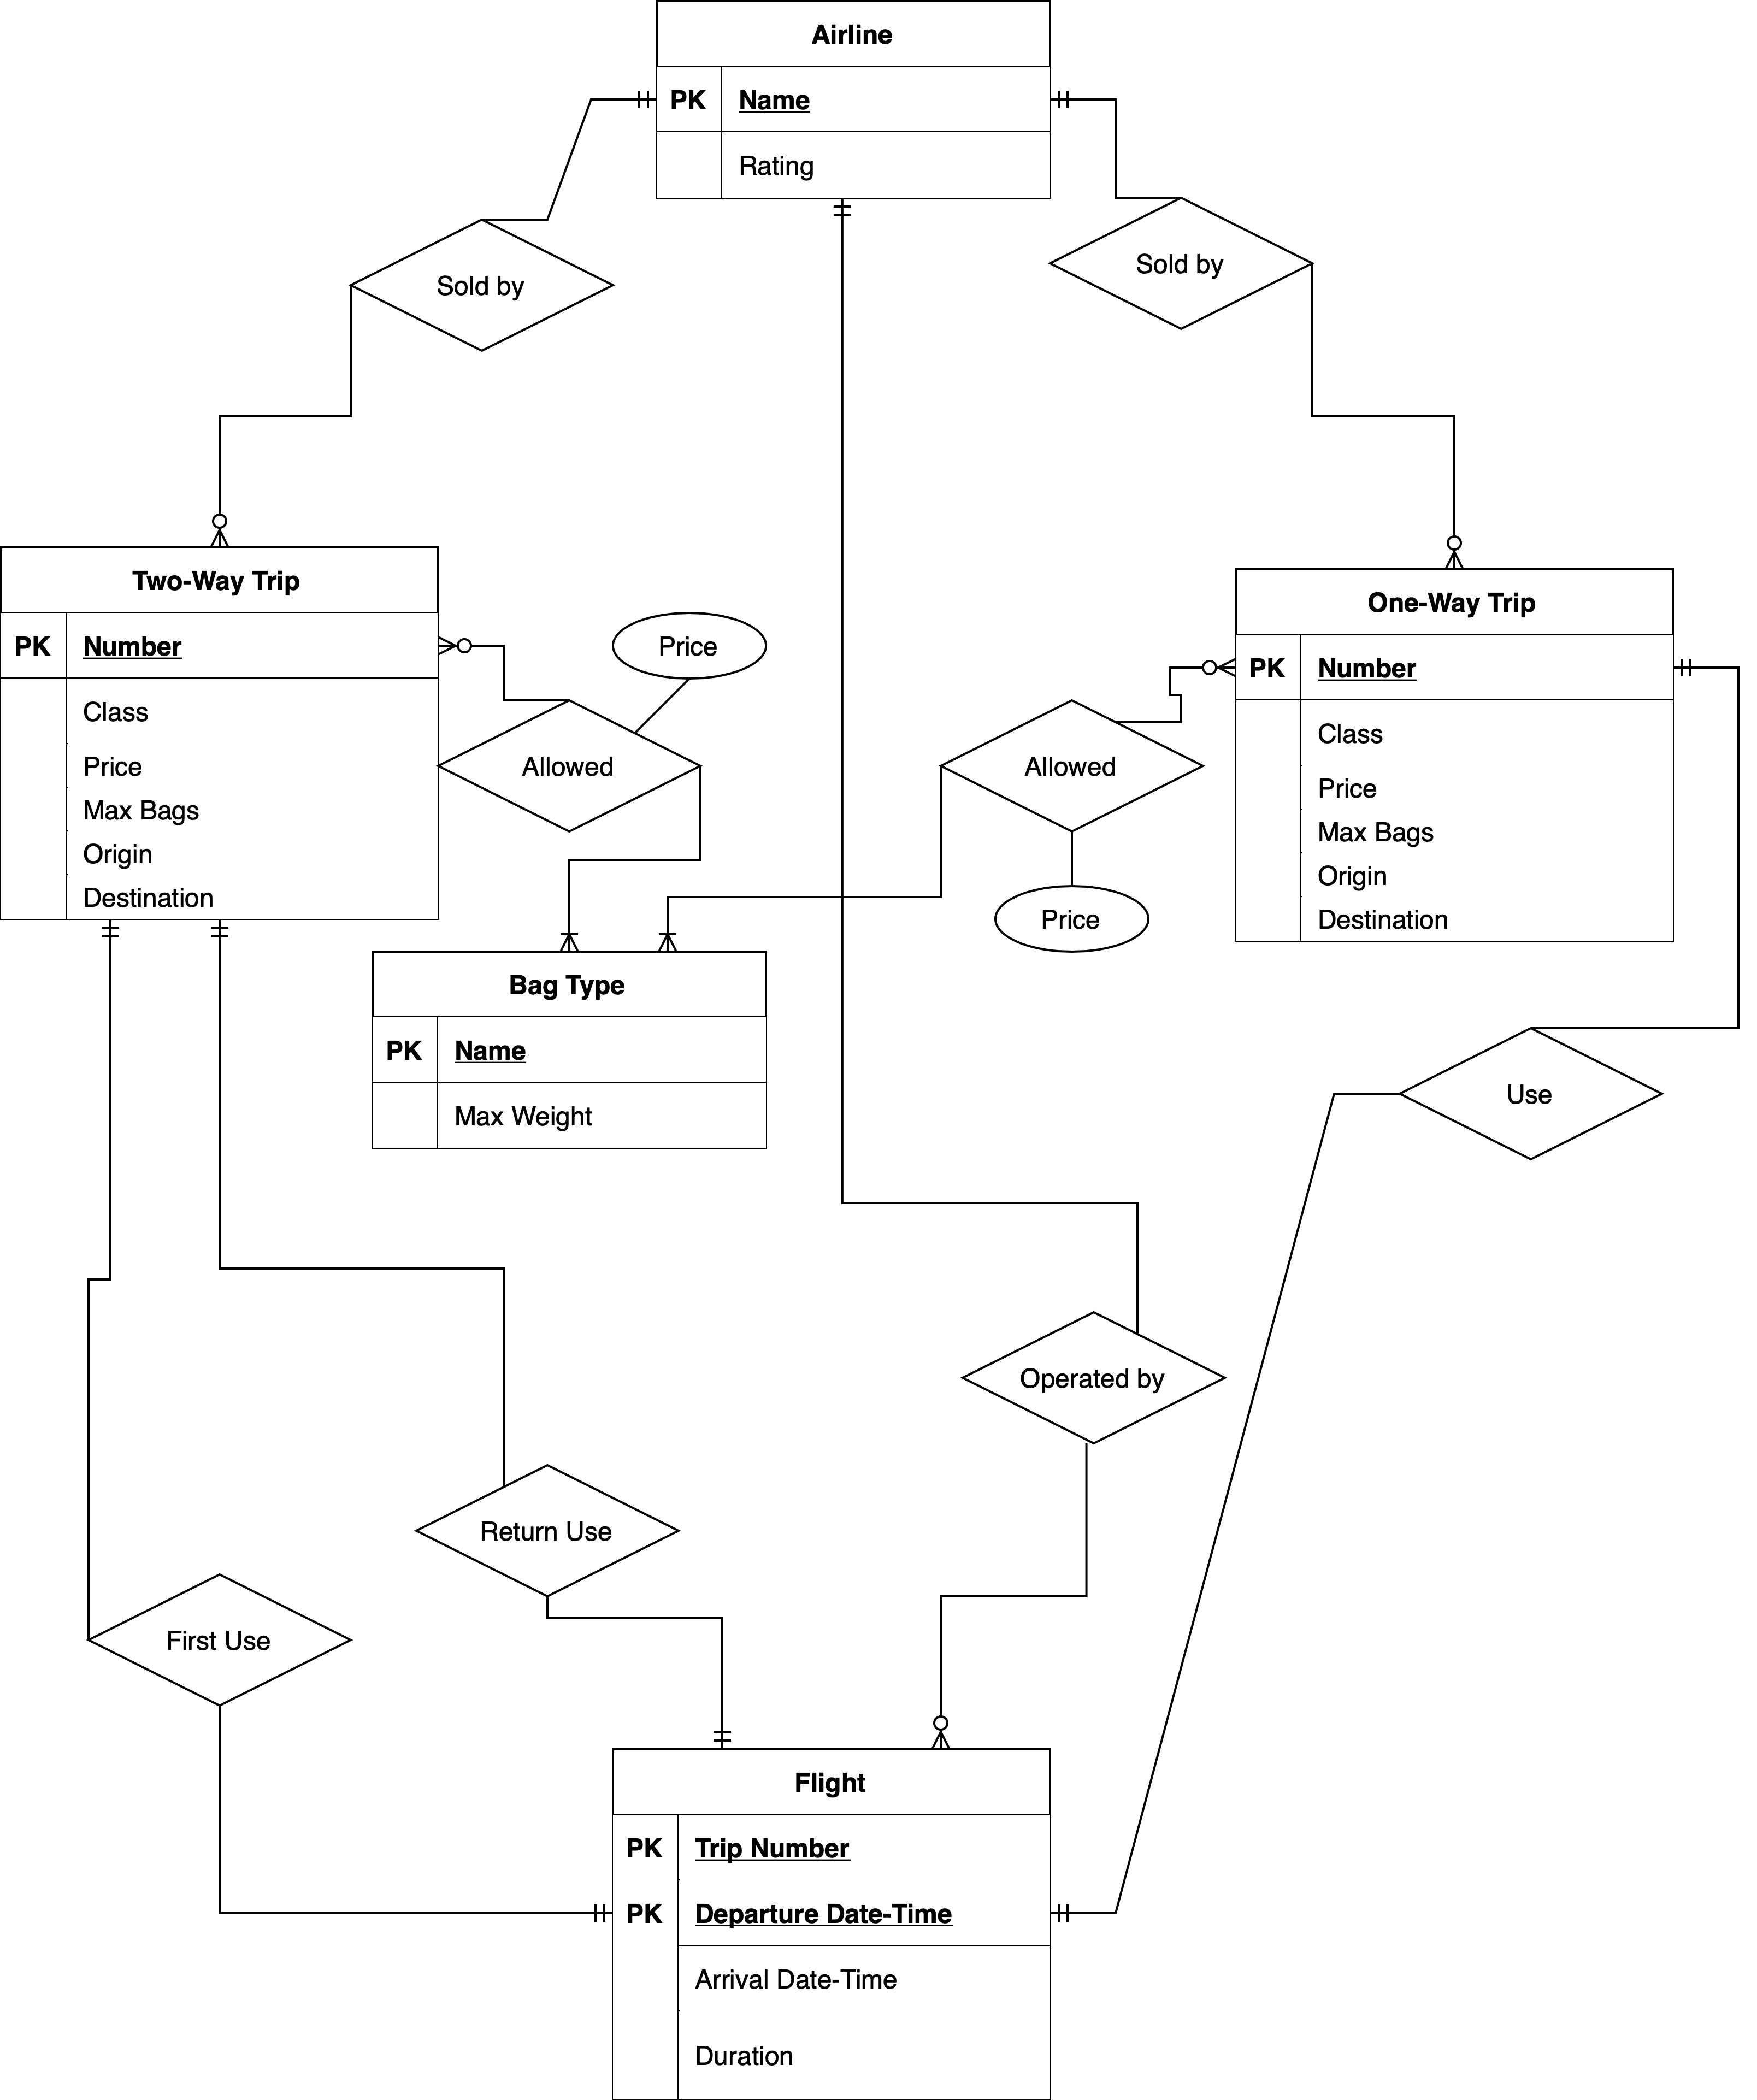attribute: (996, 884, 1148, 956), (611, 616, 769, 680)
entity: (1228, 558, 1685, 945), (0, 544, 440, 924), (607, 1748, 1056, 2100), (646, 0, 1059, 204), (372, 949, 771, 1151)
relationship: (1050, 195, 1316, 330), (965, 1312, 1227, 1448), (347, 222, 611, 354), (942, 703, 1204, 834), (1403, 1029, 1668, 1158), (417, 1467, 677, 1598), (85, 1578, 352, 1706), (441, 701, 700, 830)
